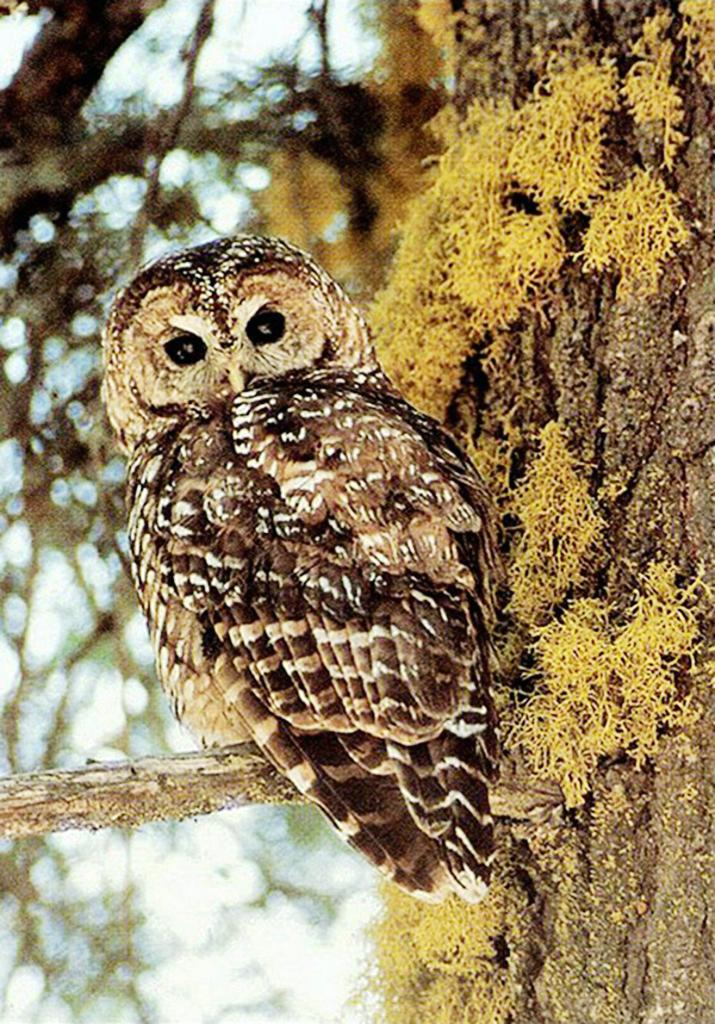Owl: (99, 232, 506, 916)
